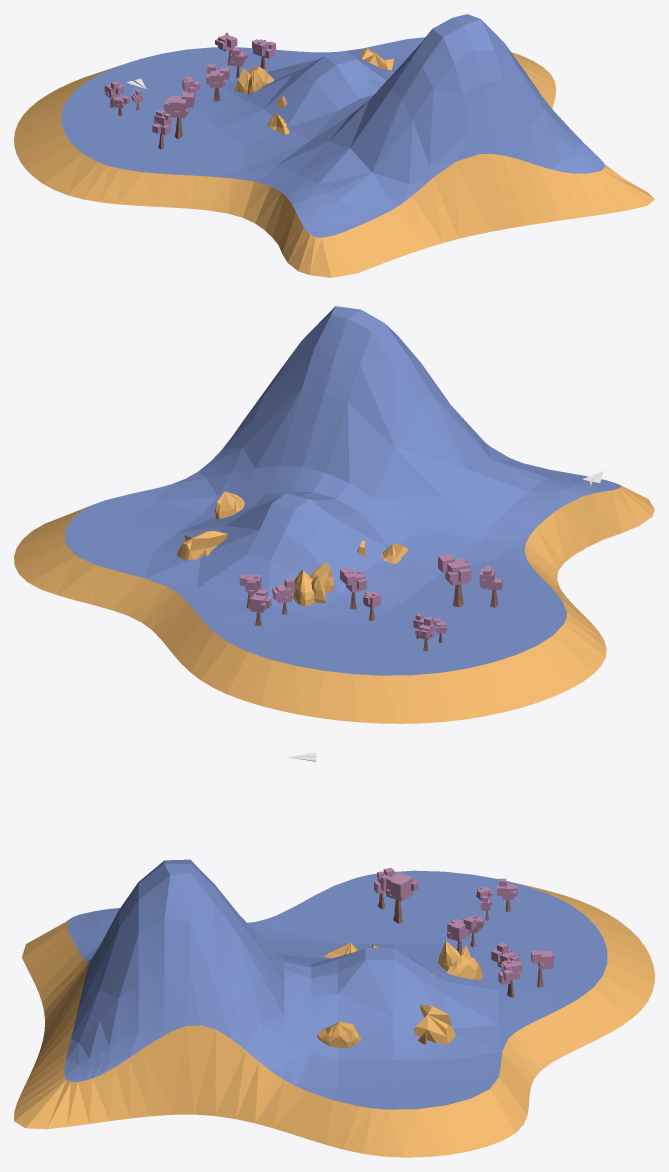
File: paperPlane.glb
3 views of the same model, one above another, from view 1: azimuth 30°, elevation 25°; view 2: azimuth 150°, elevation 25°; view 3: azimuth 270°, elevation 25° (orthographic). The views are drawn at different scales.
Visible parts, largest first — view 1: Grass, Rocks, Leafs, Trunks; view 2: Grass, Rocks, Leafs, Trunks; view 3: Grass, Rocks, Leafs, Trunks.
Part boxes in pixels (box(x1,y1,x2,y2)): Grass: box(61, 14, 604, 237); Rocks: box(14, 47, 654, 277); Leafs: box(104, 32, 275, 135); Trunks: box(109, 48, 265, 149); Grass: box(64, 306, 620, 675); Rocks: box(14, 484, 654, 723); Leafs: box(239, 554, 502, 639); Trunks: box(246, 584, 498, 651); Grass: box(64, 859, 607, 1109); Rocks: box(14, 881, 654, 1157); Leafs: box(374, 867, 554, 984); Trunks: box(378, 893, 543, 997).
Size of the model in its own units: 114 by 35.77 by 110.
